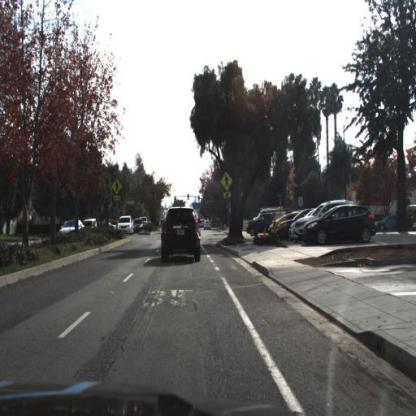car: (303, 201, 378, 245), (159, 204, 203, 267), (277, 207, 315, 239), (292, 206, 328, 238), (272, 210, 303, 244), (56, 214, 85, 240), (58, 217, 85, 242), (46, 215, 69, 236), (119, 217, 134, 235), (133, 217, 145, 236)
